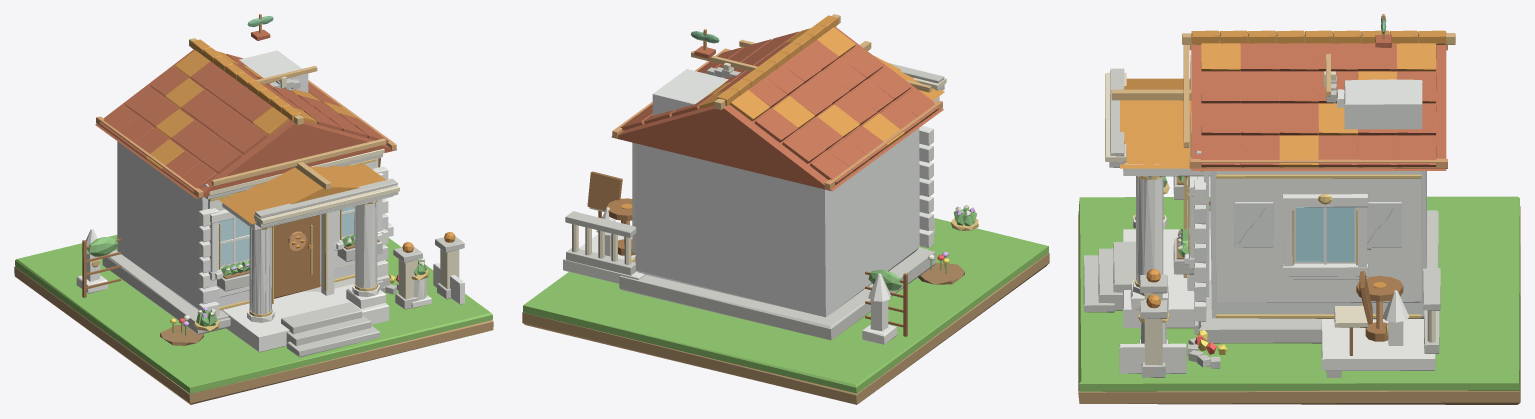
Rendered from villa_l02_active_LOD1.glb.
3 views of the same model, side by side, from view 1: azimuth 30°, elevation 25°; view 2: azimuth 150°, elevation 25°; view 3: azimuth 270°, elevation 25° (orthographic). The views are drawn at different scales.
Visible parts, largest first — view 1: villa_grass_tile_villa_l02_active_LOD1_tmp, villa_l01_active_v2_marble_core_villa_l02_active_LOD1_tmp, villa_l01_active_v2_main_gable_roof_villa_l02_active_LOD1_tm, villa_earth_tile_villa_l02_active_LOD1_tmp, villa_l02_active_wide_portico_roof_gable_roof_villa_l02_acti, villa_l02_active_wide_porch_villa_l02_active_LOD1_tmp, villa_l01_active_v2_entry_door_villa_l02_active_LOD1_tmp, villa_l01_active_v2_base_stone_block_low_medium_foundation_v, villa_l02_active_wide_column_1_shaft_villa_l02_active_LOD1_t, villa_l02_active_wide_column_-1_shaft_villa_l02_active_LOD1_, villa_l01_active_v2_stairs_step_2_villa_l02_active_LOD1_tmp, villa_l01_active_v2_main_roof_front_trim_villa_l02_active_LO (+42 smaller); view 2: villa_l01_active_v2_marble_core_villa_l02_active_LOD1_tmp, villa_grass_tile_villa_l02_active_LOD1_tmp, villa_l01_active_v2_main_gable_roof_villa_l02_active_LOD1_tm, villa_l01_active_v2_base_stone_block_low_medium_foundation_v, villa_earth_tile_villa_l02_active_LOD1_tmp, villa_l02_active_attic_wall_villa_l02_active_LOD1_tmp, villa_l02_active_chair_back_villa_l02_active_LOD1_tmp, villa_l02_active_terrace_deck_villa_l02_active_LOD1_tmp, villa_l02_active_terrace_rail_rail_villa_l02_active_LOD1_tmp, villa_l02_active_terrace_rail_sill_villa_l02_active_LOD1_tmp, villa_l01_active_v2_copper_eave_-1_villa_l02_active_LOD1_tmp, villa_l01_active_v2_tile_-1_02_05_villa_l02_active_LOD1_tmp (+26 smaller); view 3: villa_grass_tile_villa_l02_active_LOD1_tmp, villa_l01_active_v2_right_marble_cladding_villa_l02_active_L, villa_earth_tile_villa_l02_active_LOD1_tmp, villa_l02_active_wide_portico_roof_gable_roof_villa_l02_acti, villa_l02_active_terrace_deck_villa_l02_active_LOD1_tmp, villa_l02_active_attic_wall_villa_l02_active_LOD1_tmp, villa_l01_active_v2_base_stone_block_low_medium_foundation_v, villa_l01_active_v2_marble_core_villa_l02_active_LOD1_tmp, villa_l01_active_v2_main_gable_roof_villa_l02_active_LOD1_tm, villa_l01_active_v2_side_window_glass_villa_l02_active_LOD1_, villa_l02_active_wide_porch_villa_l02_active_LOD1_tmp, villa_l02_active_wide_column_1_shaft_villa_l02_active_LOD1_t (+52 smaller).
Boxes of the visible parts, box(x1,y1,x2,y2) form: villa_grass_tile_villa_l02_active_LOD1_tmp: box(15, 235, 492, 393); villa_l01_active_v2_marble_core_villa_l02_active_LOD1_tmp: box(117, 141, 375, 310); villa_l01_active_v2_main_gable_roof_villa_l02_active_LOD1_tm: box(95, 49, 396, 198); villa_earth_tile_villa_l02_active_LOD1_tmp: box(14, 266, 493, 404); villa_l02_active_wide_portico_roof_gable_roof_villa_l02_acti: box(219, 164, 385, 224); villa_l02_active_wide_porch_villa_l02_active_LOD1_tmp: box(221, 284, 389, 352); villa_l01_active_v2_entry_door_villa_l02_active_LOD1_tmp: box(274, 215, 320, 298); villa_l01_active_v2_base_stone_block_low_medium_foundation_v: box(102, 250, 389, 334); villa_l02_active_wide_column_1_shaft_villa_l02_active_LOD1_t: box(355, 202, 376, 288); villa_l02_active_wide_column_-1_shaft_villa_l02_active_LOD1_: box(249, 227, 271, 314); villa_l01_active_v2_stairs_step_2_villa_l02_active_LOD1_tmp: box(281, 302, 362, 334); villa_l01_active_v2_main_roof_front_trim_villa_l02_active_LO: box(211, 138, 386, 186); villa_l01_active_v2_marble_core_villa_l02_active_LOD1_tmp: box(635, 128, 919, 317); villa_grass_tile_villa_l02_active_LOD1_tmp: box(523, 218, 1048, 393); villa_l01_active_v2_main_gable_roof_villa_l02_active_LOD1_tm: box(611, 27, 943, 191); villa_l01_active_v2_base_stone_block_low_medium_foundation_v: box(619, 248, 935, 340); villa_earth_tile_villa_l02_active_LOD1_tmp: box(522, 253, 1049, 404); villa_l02_active_attic_wall_villa_l02_active_LOD1_tmp: box(652, 69, 728, 115); villa_l02_active_chair_back_villa_l02_active_LOD1_tmp: box(587, 171, 622, 210); villa_l02_active_terrace_deck_villa_l02_active_LOD1_tmp: box(563, 234, 645, 283); villa_l02_active_terrace_rail_rail_villa_l02_active_LOD1_tmp: box(565, 211, 636, 237); villa_l02_active_terrace_rail_sill_villa_l02_active_LOD1_tmp: box(566, 248, 636, 275); villa_l01_active_v2_copper_eave_-1_villa_l02_active_LOD1_tmp: box(824, 100, 942, 190); villa_l01_active_v2_tile_-1_02_05_villa_l02_active_LOD1_tmp: box(782, 129, 825, 163); villa_grass_tile_villa_l02_active_LOD1_tmp: box(1079, 196, 1519, 391); villa_l01_active_v2_right_marble_cladding_villa_l02_active_L: box(1216, 171, 1421, 302); villa_earth_tile_villa_l02_active_LOD1_tmp: box(1078, 206, 1520, 404); villa_l02_active_wide_portico_roof_gable_roof_villa_l02_acti: box(1120, 78, 1191, 168); villa_l02_active_terrace_deck_villa_l02_active_LOD1_tmp: box(1321, 319, 1435, 370); villa_l02_active_attic_wall_villa_l02_active_LOD1_tmp: box(1344, 79, 1422, 129); villa_l01_active_v2_base_stone_block_low_medium_foundation_v: box(1198, 210, 1438, 343); villa_l01_active_v2_marble_core_villa_l02_active_LOD1_tmp: box(1210, 171, 1426, 319); villa_l01_active_v2_main_gable_roof_villa_l02_active_LOD1_tm: box(1191, 45, 1446, 170); villa_l01_active_v2_side_window_glass_villa_l02_active_LOD1_: box(1295, 207, 1354, 261); villa_l02_active_wide_porch_villa_l02_active_LOD1_tmp: box(1123, 229, 1211, 328); villa_l02_active_wide_column_1_shaft_villa_l02_active_LOD1_t: box(1136, 176, 1163, 283).
Size of what is drawn, in the model's own units: 3.57 by 2.88 by 3.58.
